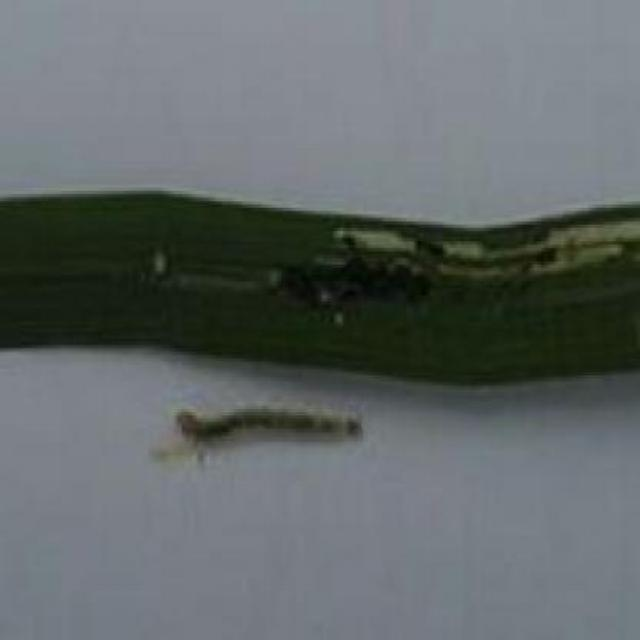leaf-folder: (152, 384, 371, 476)
